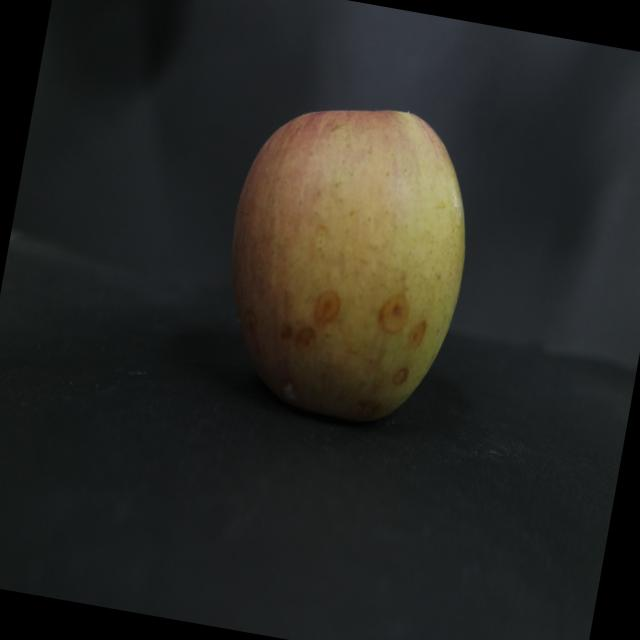rotten: (196, 78, 500, 460)
